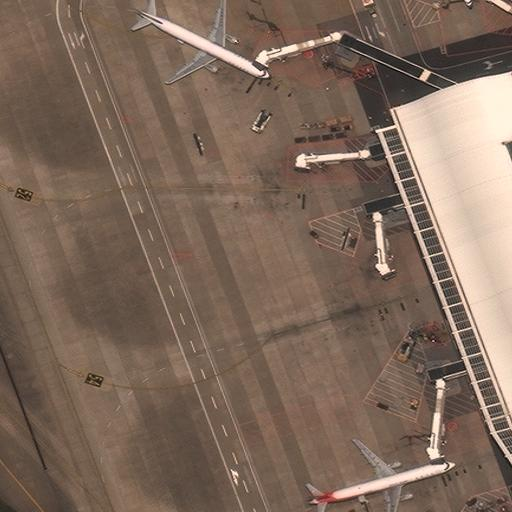Medium Civil Transport: (132, 0, 270, 84), (308, 439, 455, 511)
